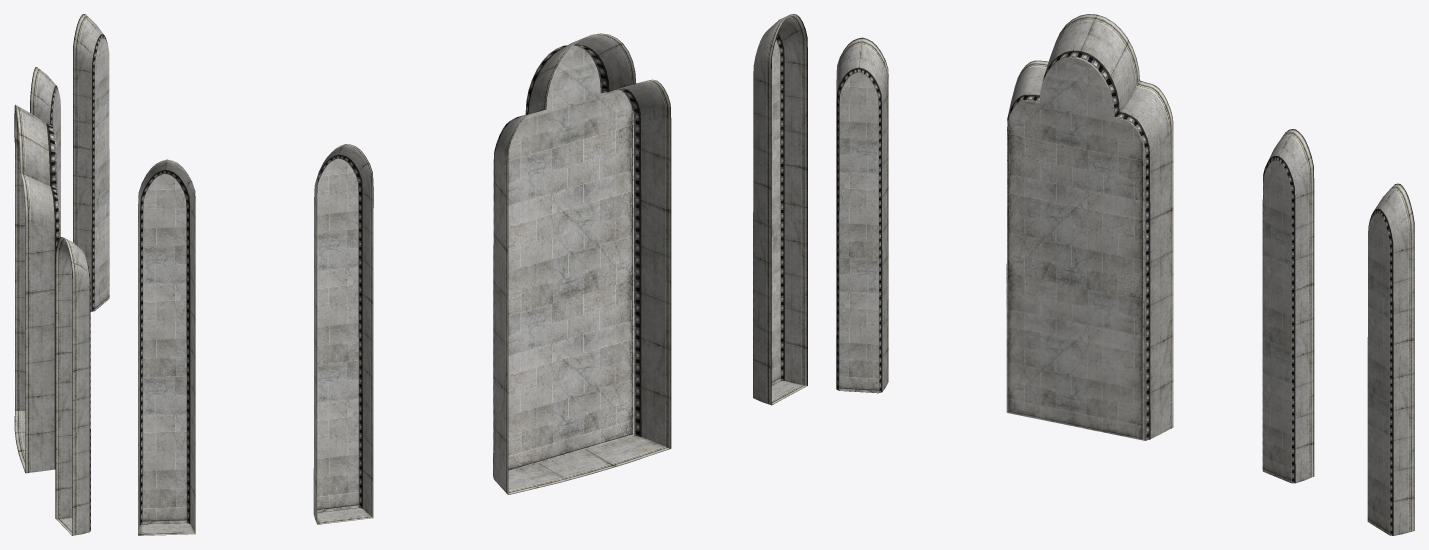
Rendered from Hallway_Alcoves.FBX.
The picture shows the model from 3 angles, left to right: view 1: azimuth 30°, elevation 25°; view 2: azimuth 150°, elevation 25°; view 3: azimuth 270°, elevation 25°; orthographic projection. The views are drawn at different scales.
Parts seen in each view (by area): view 1: SM_L_Hallway_Alcoves; view 2: SM_L_Hallway_Alcoves; view 3: SM_L_Hallway_Alcoves.
Part boxes in pixels (bbox=[...]): SM_L_Hallway_Alcoves: bbox=[14, 14, 109, 535]; SM_L_Hallway_Alcoves: bbox=[138, 14, 807, 535]; SM_L_Hallway_Alcoves: bbox=[836, 14, 1414, 535].
Size of what is drawn, in the model's own units: 713 by 1111 by 839.
